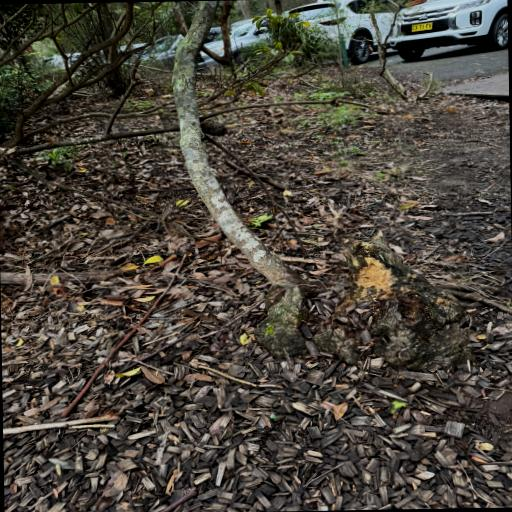tree root: (173, 1, 310, 357), (313, 232, 470, 369)
